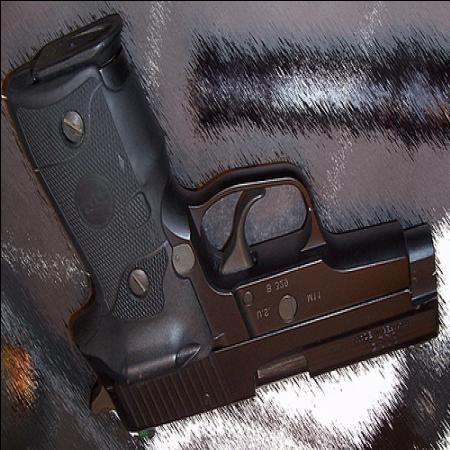Pistol: (1, 16, 442, 434)
